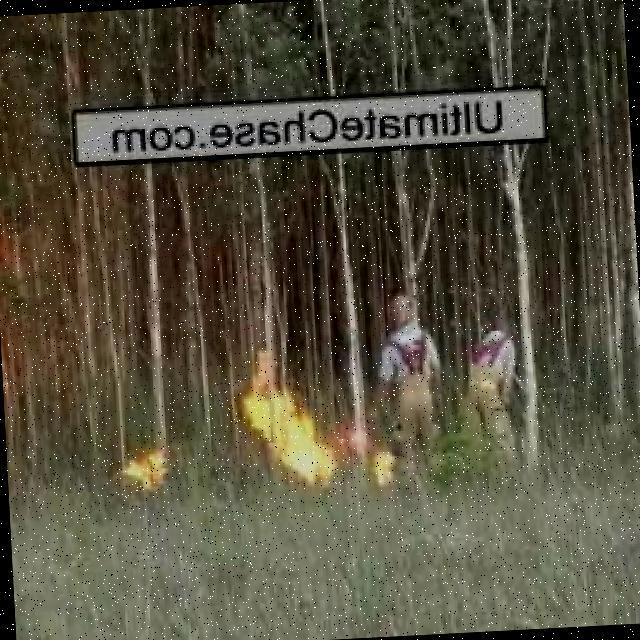Fire: (237, 368, 342, 490), (346, 427, 394, 484), (121, 449, 168, 490)
